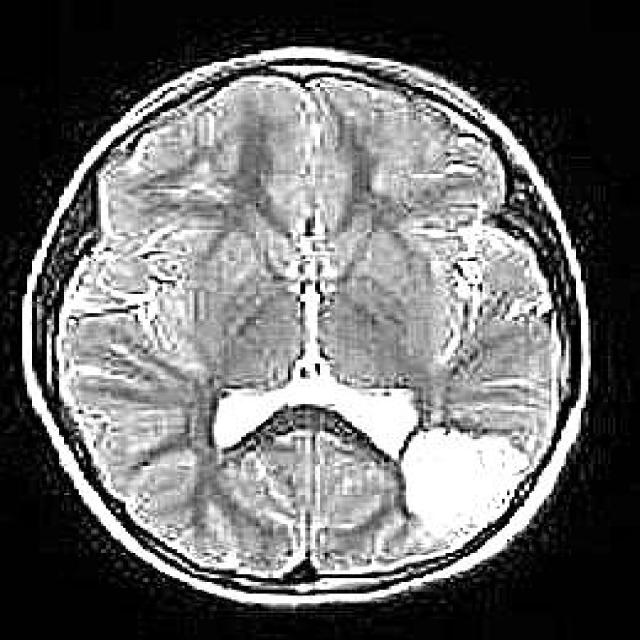Tumor-Cell: (382, 405, 522, 529)
